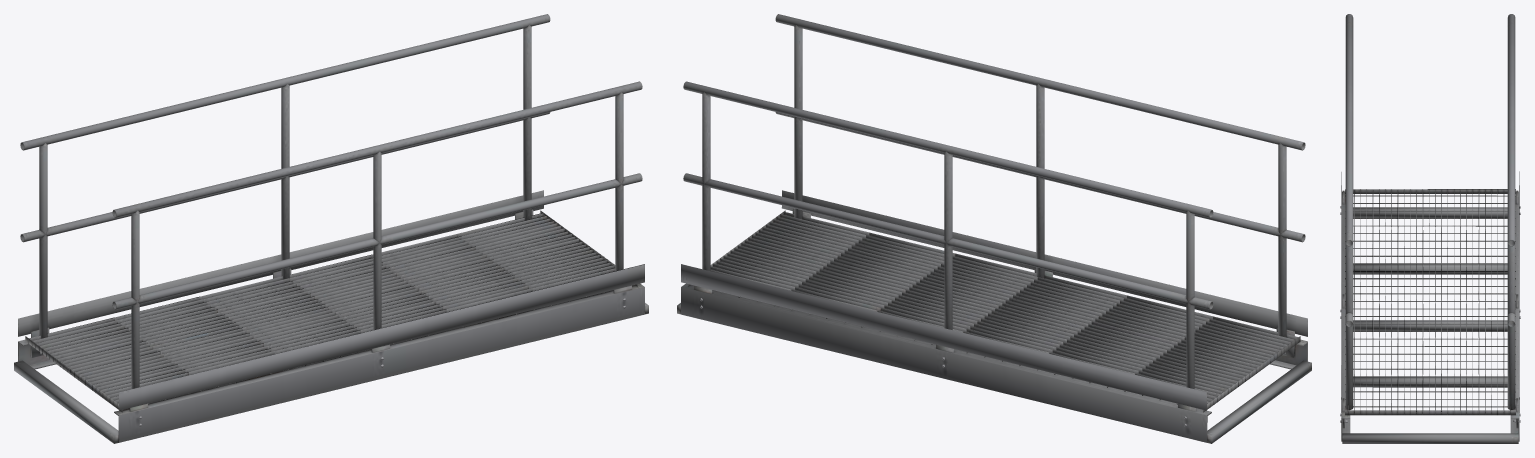
The model's file is industrial_walkway_section_lod1.glb.
The picture shows the model from 3 angles, left to right: view 1: azimuth 30°, elevation 25°; view 2: azimuth 150°, elevation 25°; view 3: azimuth 270°, elevation 25°; orthographic projection. The views are drawn at different scales.
Parts seen in each view (by area): view 1: industrial_walkway_section_paint; view 2: industrial_walkway_section_paint; view 3: industrial_walkway_section_paint.
Part boxes in pixels (x1,y1,x2,y2): industrial_walkway_section_paint: [14, 14, 648, 443]; industrial_walkway_section_paint: [677, 14, 1311, 443]; industrial_walkway_section_paint: [1341, 14, 1519, 443].
Bounding box in the file's own units: 3.05 × 1.25 × 1.01.
Materials: 2 (1 with a texture image).
